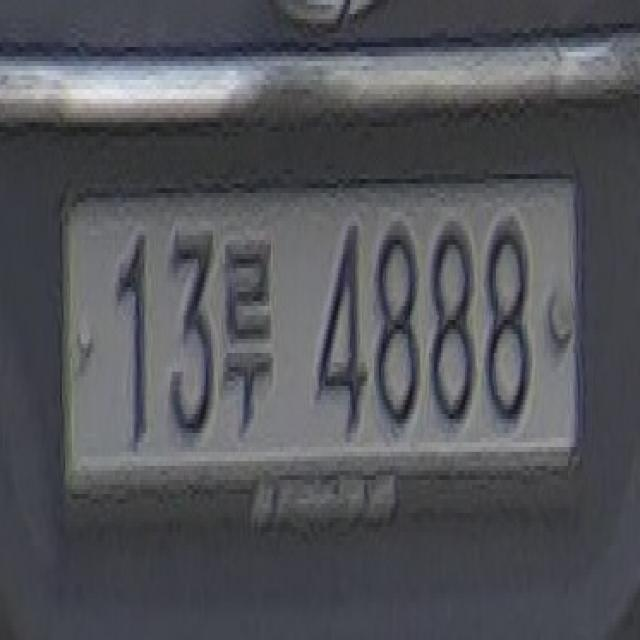1: (106, 212, 158, 480)
3: (163, 216, 220, 466)
4: (312, 202, 371, 476)
8: (478, 202, 540, 452), (420, 198, 480, 452), (371, 203, 422, 457)
license_plate: (51, 160, 588, 555)
lu: (220, 216, 283, 456)
